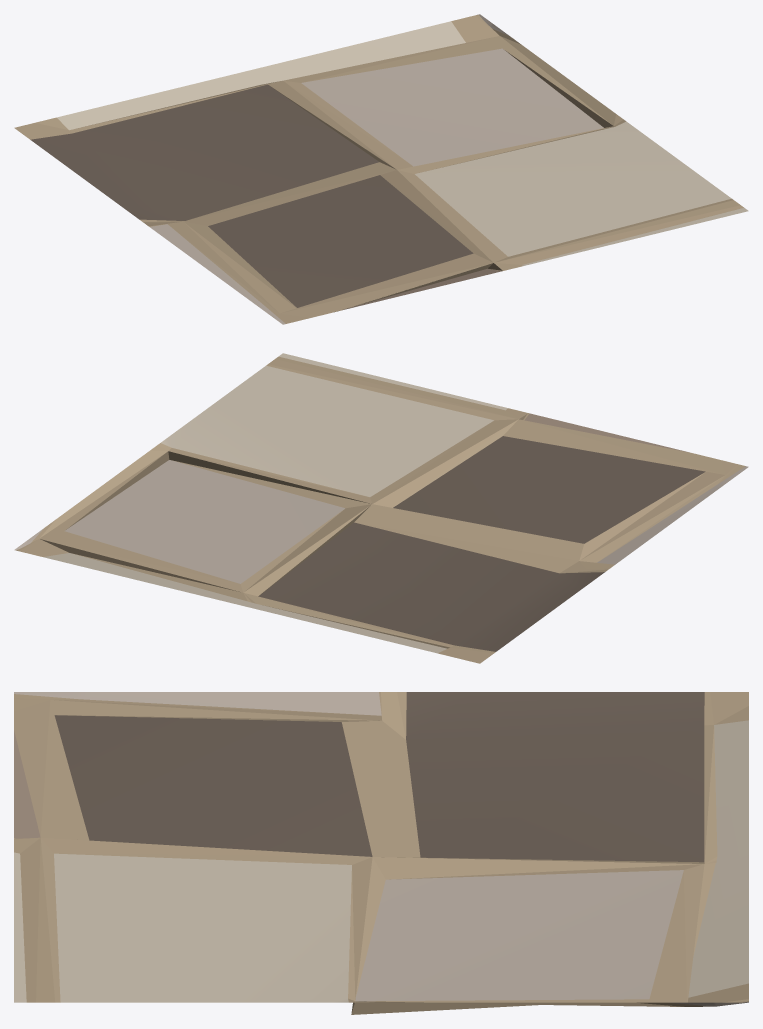
Rendered from RG-Dungeon_Floor-004.fbx.
The picture shows the model from 3 angles, top to bottom: view 1: azimuth 30°, elevation 25°; view 2: azimuth 150°, elevation 25°; view 3: azimuth 270°, elevation 25°; orthographic projection. The views are drawn at different scales.
Parts seen in each view (by area): view 1: RG-Dungeon_Floor-004; view 2: RG-Dungeon_Floor-004; view 3: RG-Dungeon_Floor-004.
Part boxes in pixels (box(x1,y1,x2,y2)): RG-Dungeon_Floor-004: box(14, 14, 748, 324); RG-Dungeon_Floor-004: box(14, 353, 748, 663); RG-Dungeon_Floor-004: box(14, 692, 748, 1014).
Size of the model in its own units: 10 by 0.3028 by 10.
